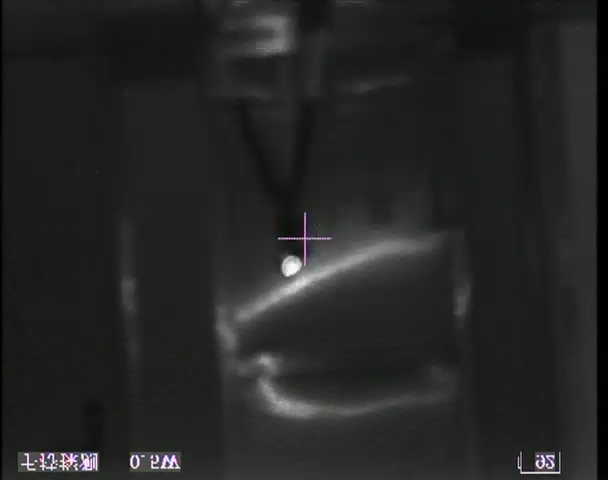my: (280, 253, 304, 278)
